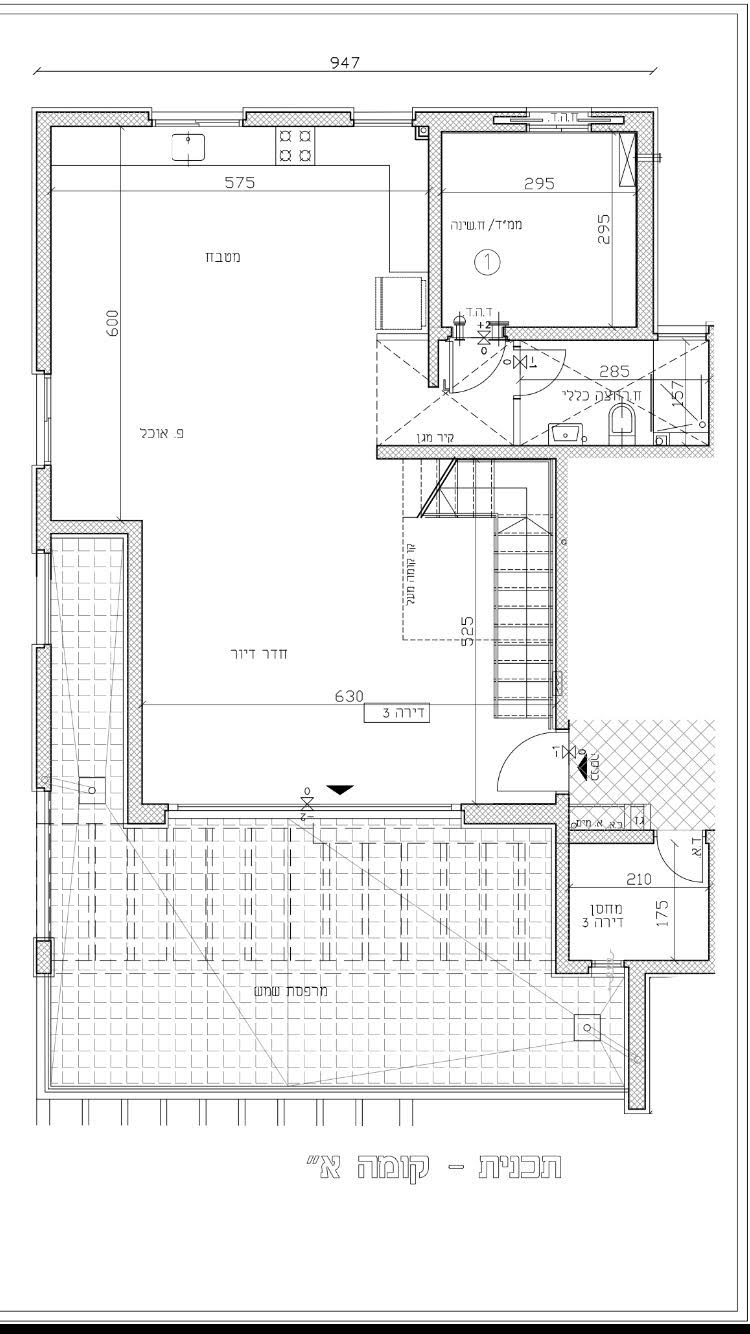door: (494, 728, 552, 796), (443, 345, 510, 397), (651, 843, 705, 891)
wall: (127, 521, 143, 823), (552, 456, 569, 730), (376, 445, 712, 457), (428, 131, 442, 324), (627, 959, 643, 1108), (507, 325, 640, 341), (37, 520, 126, 533)
window: (167, 803, 459, 819), (36, 374, 51, 464), (35, 552, 50, 642), (152, 112, 243, 126), (352, 111, 412, 126)
